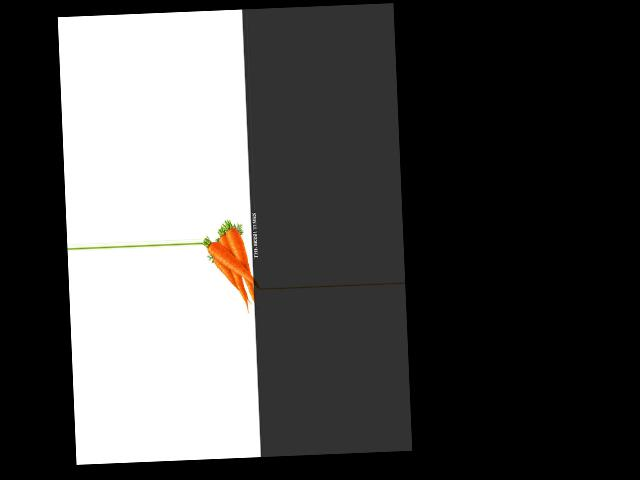carrot: (226, 219, 260, 281)
